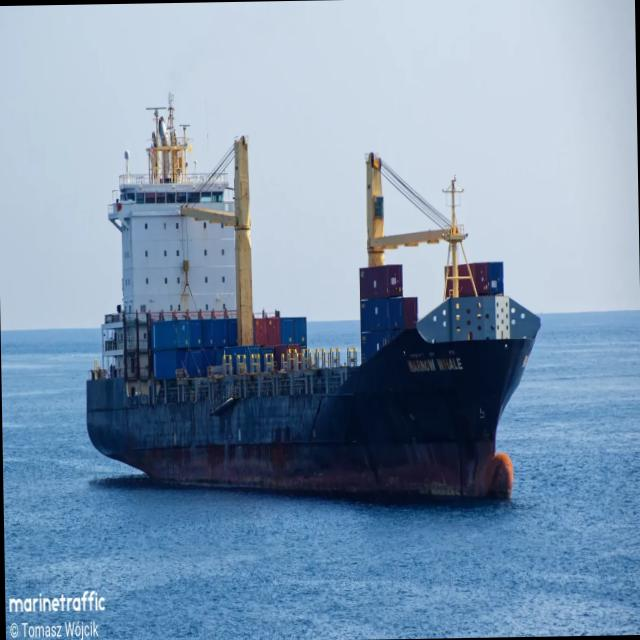Cargo: (86, 99, 539, 498)
